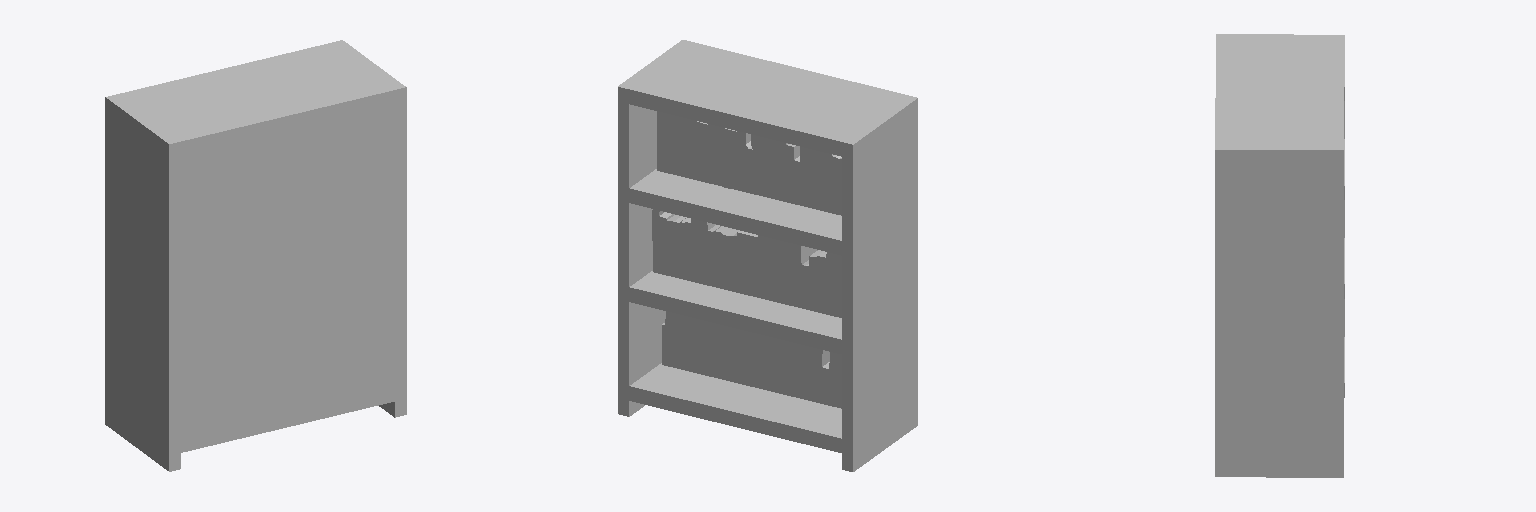
Rendered from bookshelf.obj.
3 renders of one model, left to right at view 1: azimuth 30°, elevation 25°; view 2: azimuth 150°, elevation 25°; view 3: azimuth 270°, elevation 25°, orthographic.
Parts seen in each view (by area): view 1: Shelf; view 2: Shelf, Row_2, Row_3, Row_1; view 3: Shelf.
Boxes of the visible parts, x1,y1,x2,y2 form: Shelf: [105, 40, 406, 471]; Shelf: [618, 40, 917, 471]; Row_2: [652, 209, 841, 317]; Row_3: [657, 111, 841, 215]; Row_1: [662, 311, 841, 408]; Shelf: [1215, 34, 1344, 477].
Bounding box in the file's own units: 1.8 × 2.38 × 0.8569.